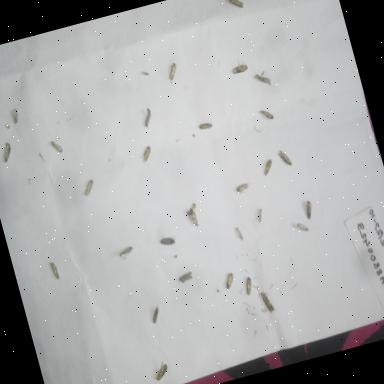pbw: (148, 357, 173, 384), (226, 57, 252, 81), (258, 286, 278, 315), (256, 154, 278, 180), (163, 58, 183, 86), (146, 301, 166, 328), (114, 243, 137, 266), (238, 273, 259, 298), (157, 230, 180, 252), (184, 206, 203, 232), (174, 268, 196, 290), (253, 67, 274, 90), (228, 222, 248, 246), (277, 146, 296, 171), (137, 142, 156, 167), (138, 104, 156, 130), (46, 258, 64, 284), (0, 139, 18, 165), (221, 268, 240, 292), (234, 178, 256, 198), (80, 176, 100, 198), (194, 117, 216, 136), (258, 106, 278, 126), (221, 0, 247, 15), (300, 196, 316, 220), (49, 136, 67, 156), (6, 104, 22, 126), (252, 205, 268, 225), (294, 220, 311, 238)
